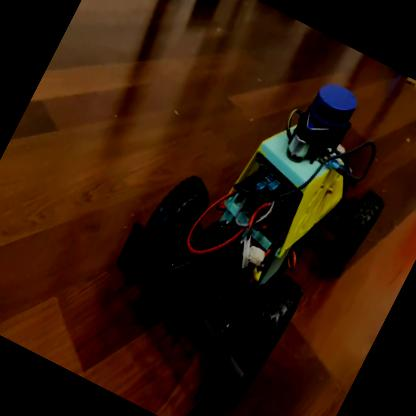mushr_car: (75, 31, 415, 415)
